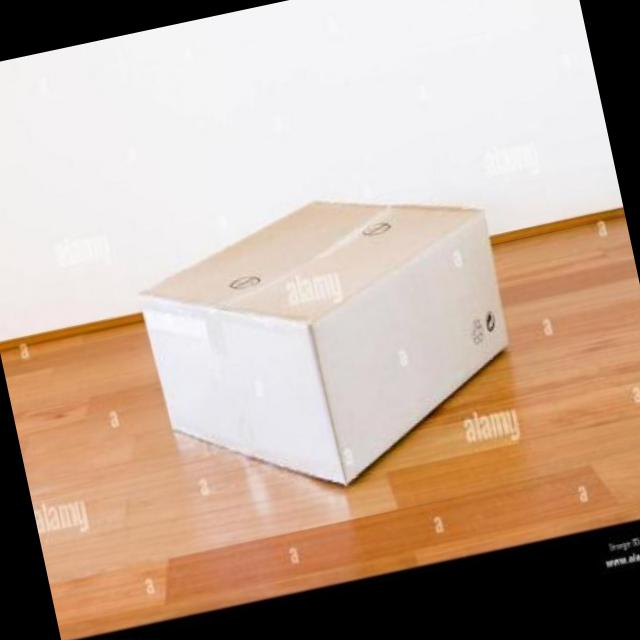box: (111, 142, 568, 540)
